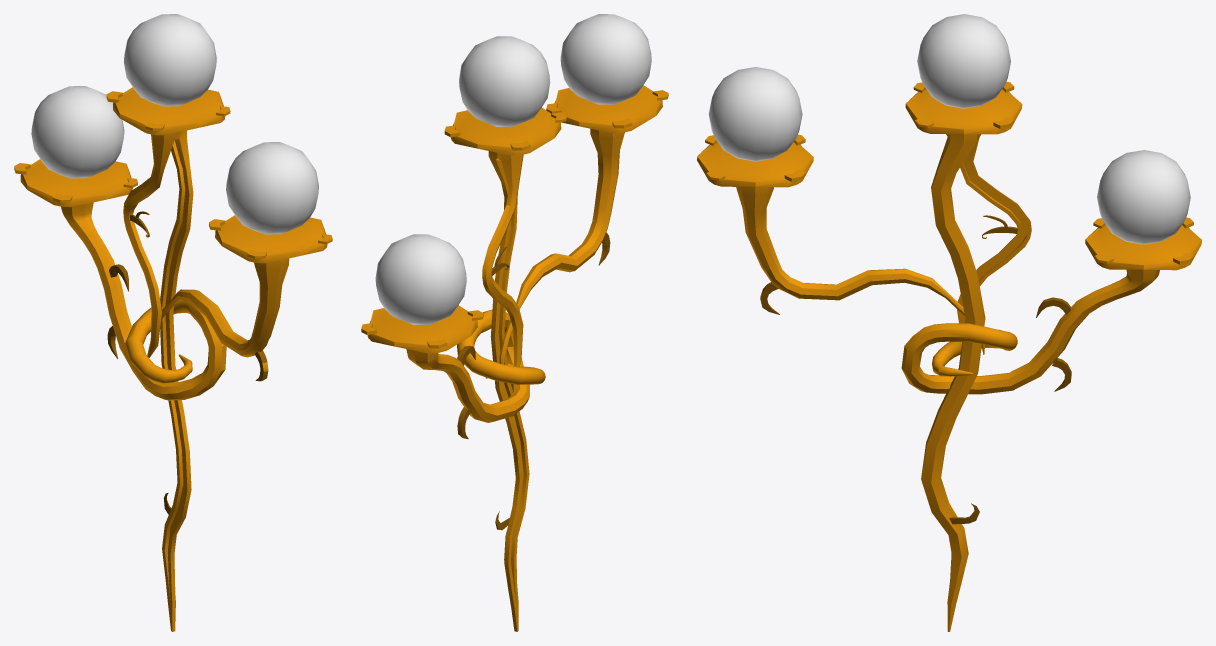
The model's file is Old Wall Sconce.fbx.
The picture shows the model from 3 angles, left to right: view 1: azimuth 30°, elevation 25°; view 2: azimuth 150°, elevation 25°; view 3: azimuth 270°, elevation 25°; orthographic projection. The views are drawn at different scales.
Parts seen in each view (by area): view 1: Wall Sconce; view 2: Wall Sconce; view 3: Wall Sconce.
Part boxes in pixels (x1,y1,x2,y2): Wall Sconce: (14, 14, 332, 631); Wall Sconce: (361, 14, 668, 631); Wall Sconce: (697, 14, 1201, 631).
Bounding box in the file's own units: 12.03 × 67.5 × 50.25.
